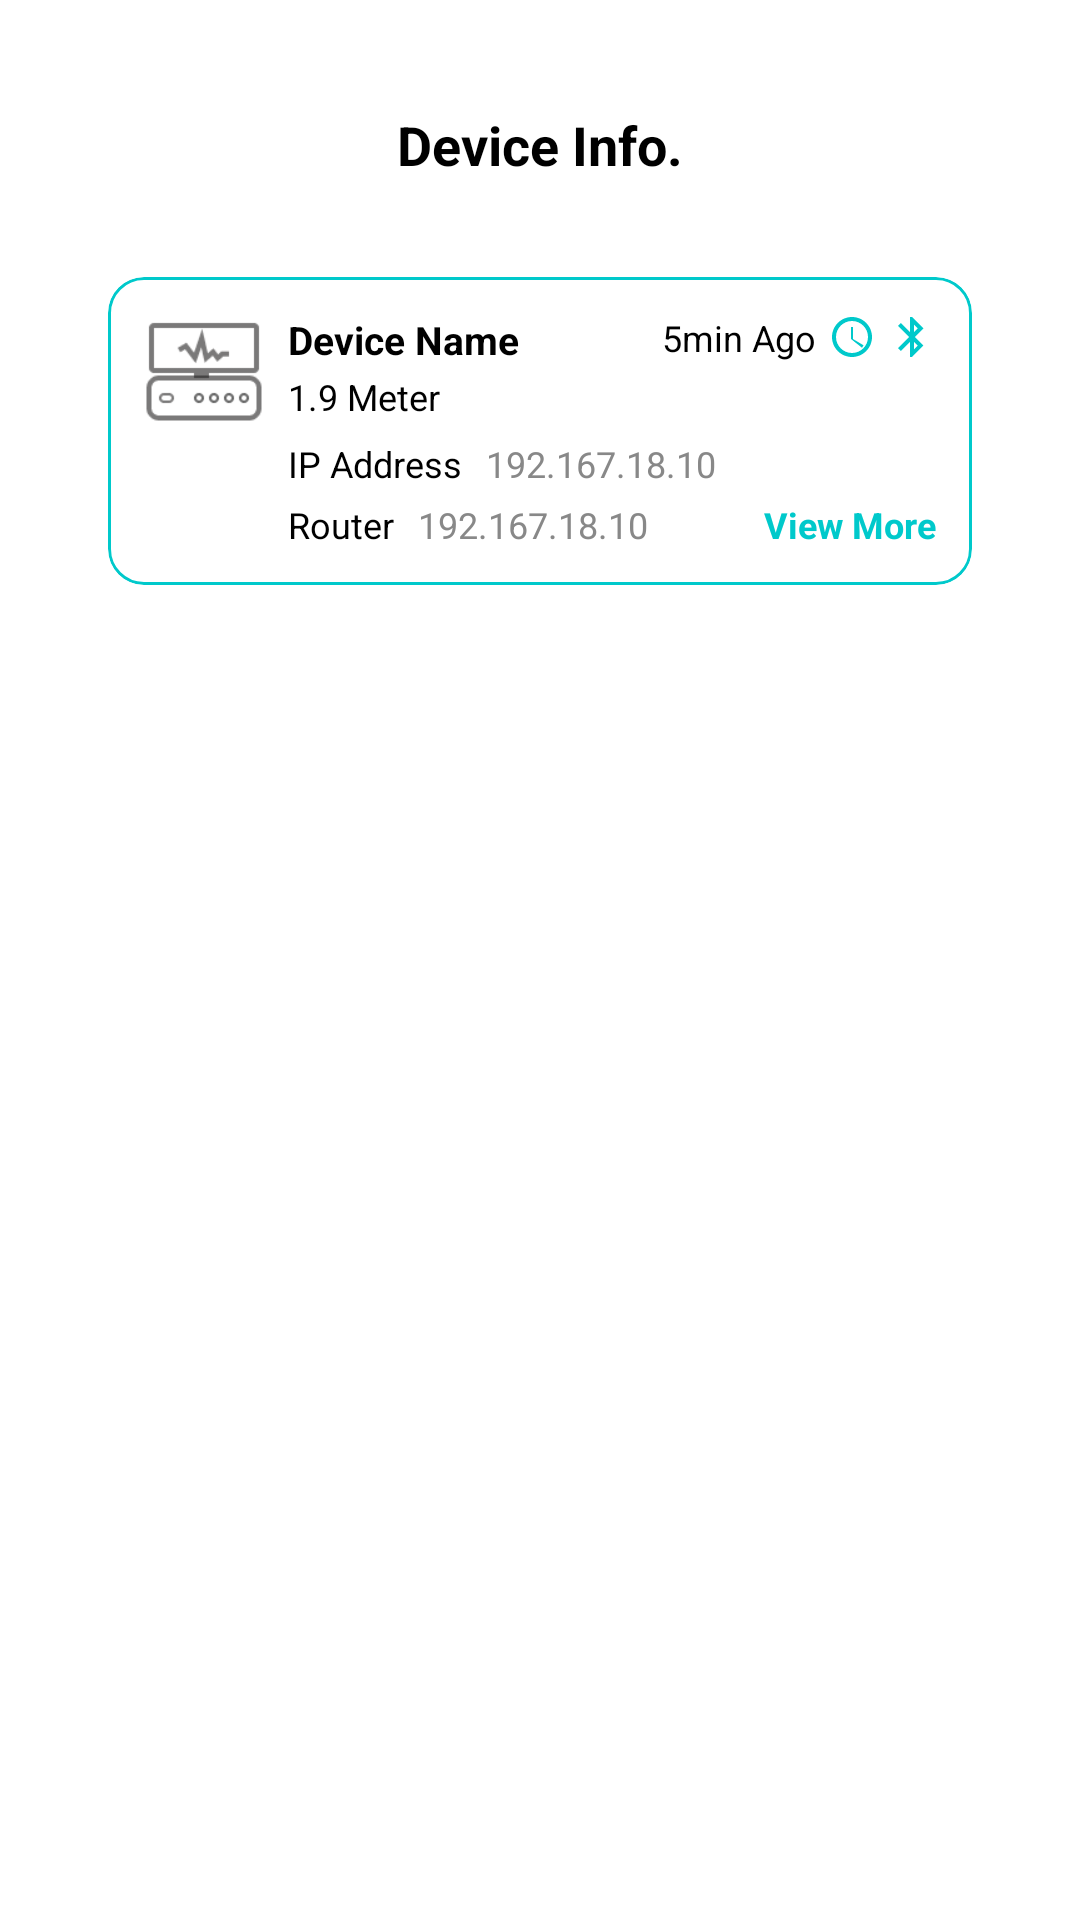

Named icons in this screenshot (1080px×1920px) and their centers, (x=x, y=y):
clock: (x=852, y=337)
